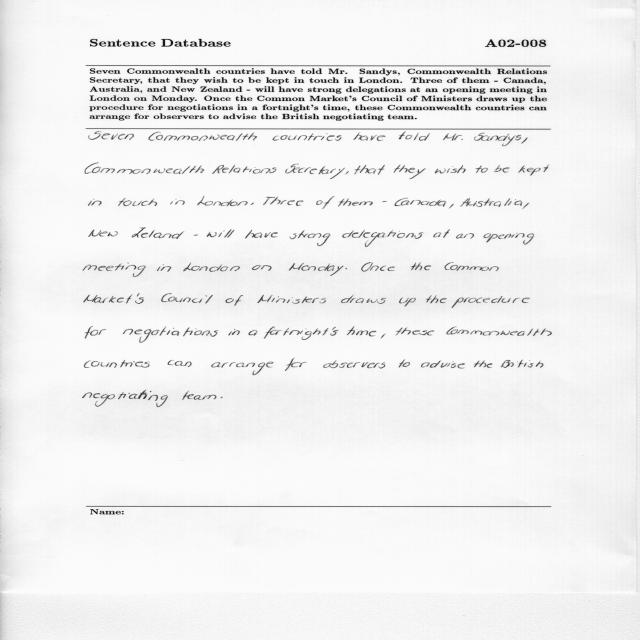word: (123, 326, 219, 343), (83, 390, 168, 407), (342, 230, 423, 247), (85, 163, 204, 174), (446, 326, 552, 336), (148, 132, 257, 141), (264, 327, 338, 340), (83, 262, 146, 277), (452, 296, 530, 308), (285, 164, 345, 179), (212, 362, 274, 375), (289, 263, 344, 276), (84, 293, 144, 304), (290, 230, 331, 246), (257, 295, 326, 304), (474, 133, 521, 146), (212, 165, 277, 174), (132, 228, 184, 239), (461, 198, 523, 207), (323, 360, 385, 369), (273, 133, 342, 141), (484, 233, 534, 244), (84, 360, 150, 368), (161, 294, 213, 304), (183, 263, 240, 272), (197, 197, 248, 207), (444, 263, 499, 272), (394, 164, 426, 179), (394, 198, 446, 207), (89, 131, 134, 140), (341, 295, 386, 304), (501, 359, 544, 368), (263, 197, 303, 206), (421, 361, 465, 369), (519, 165, 550, 176), (361, 262, 395, 272), (118, 198, 157, 206), (354, 165, 385, 175), (183, 391, 217, 400), (396, 328, 434, 336), (347, 327, 376, 337), (354, 132, 386, 141), (285, 358, 307, 371), (338, 199, 373, 207), (399, 132, 430, 141), (245, 230, 278, 238), (86, 327, 107, 339), (435, 165, 466, 173), (316, 196, 335, 209), (89, 229, 118, 237), (207, 230, 235, 238), (225, 295, 243, 306), (399, 297, 416, 307), (426, 296, 447, 304), (168, 360, 192, 367), (443, 133, 463, 141), (411, 263, 431, 271), (433, 229, 450, 238), (474, 360, 492, 368), (495, 165, 510, 173), (252, 265, 272, 271), (475, 165, 488, 173), (88, 199, 102, 206), (157, 265, 171, 272), (170, 199, 185, 205), (456, 234, 474, 239), (399, 360, 410, 368), (228, 329, 240, 335), (249, 330, 258, 336), (521, 138, 528, 144), (523, 203, 530, 209), (449, 204, 454, 209), (381, 334, 385, 338), (345, 171, 349, 174), (251, 202, 254, 205), (383, 201, 387, 202), (194, 235, 198, 236), (346, 268, 348, 269), (221, 397, 223, 398)
